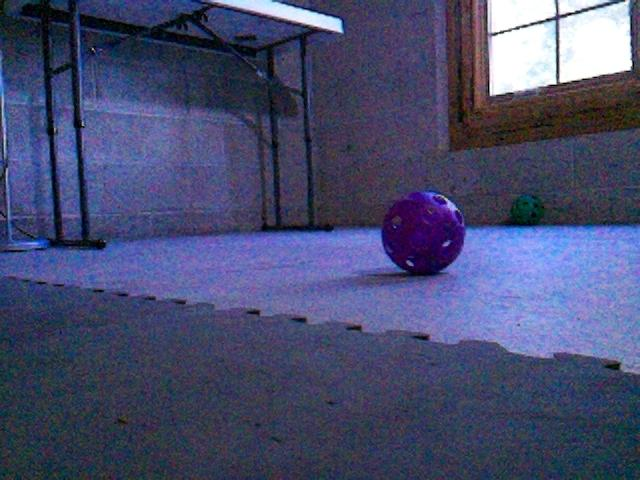Green: (509, 195, 544, 225)
Purple: (380, 190, 467, 275)
